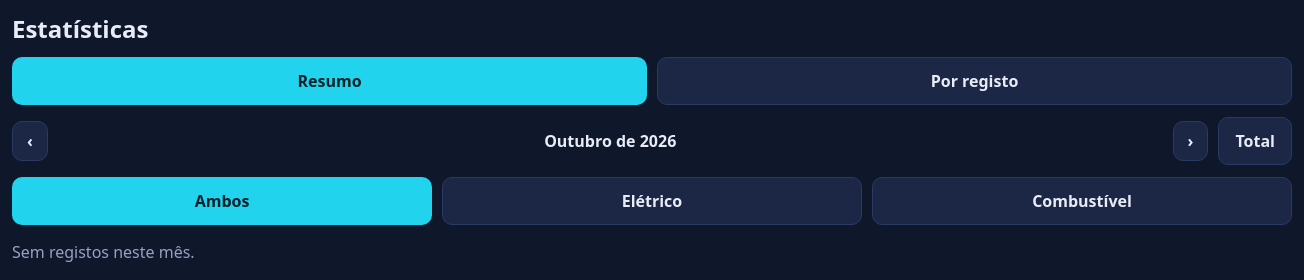
Test: StatsScreen › shows an empty state for Total with no entries at all
This screenshot has width=1304, height=280.
Click the button "Total" at (1255, 141), box [1218,117,1292,165]
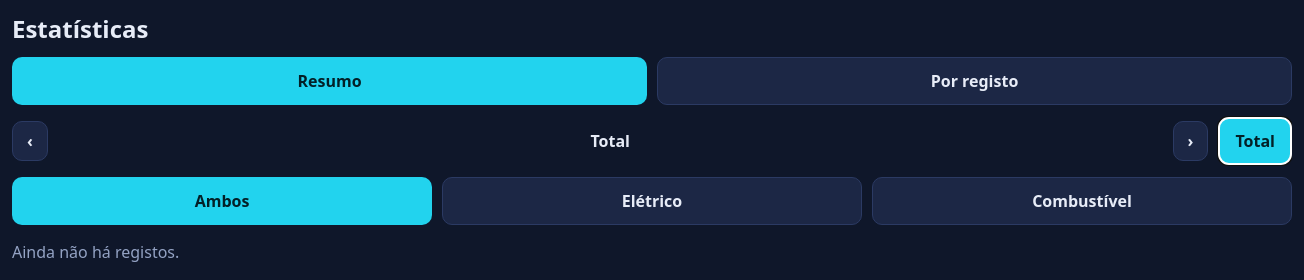
Expected: the text "Ainda não há registos." is shown, [12,241,179,263]
